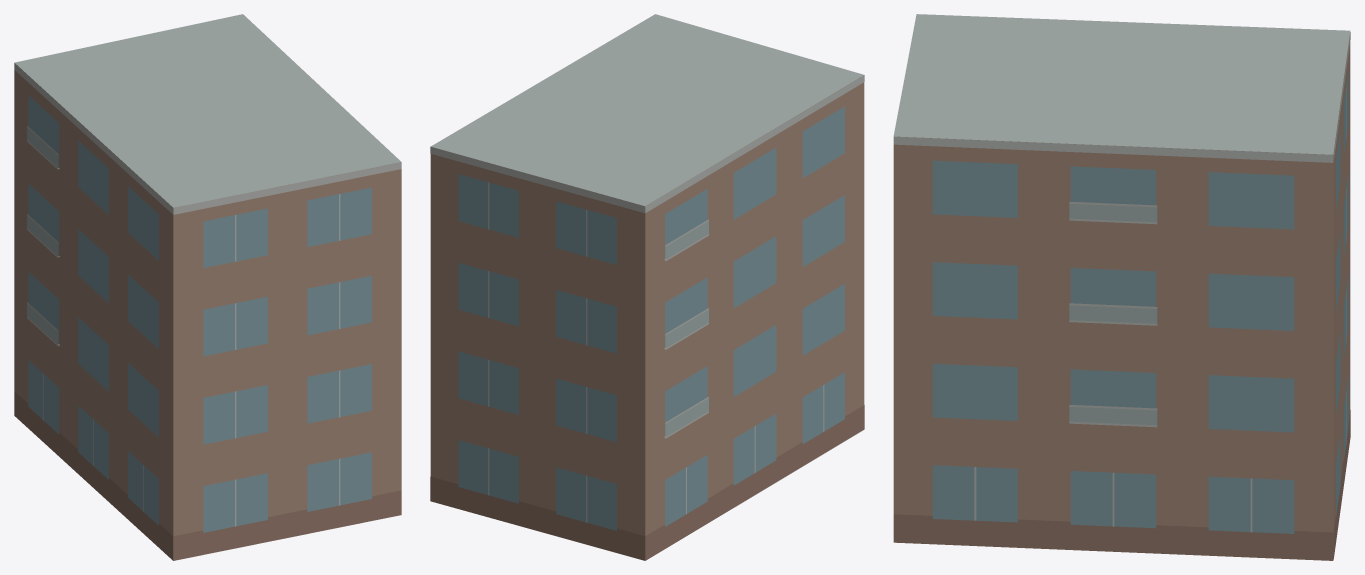
Rendered from survey-upis-32805550.glb.
The picture shows the model from 3 angles, left to right: view 1: azimuth 30°, elevation 25°; view 2: azimuth 150°, elevation 25°; view 3: azimuth 270°, elevation 25°; orthographic projection. The views are drawn at different scales.
Parts seen in each view (by area): view 1: survey-upis-32805550.tmp; view 2: survey-upis-32805550.tmp; view 3: survey-upis-32805550.tmp.
Part boxes in pixels (box(x1,y1,x2,y2)): survey-upis-32805550.tmp: box(14, 14, 401, 560); survey-upis-32805550.tmp: box(430, 14, 864, 560); survey-upis-32805550.tmp: box(893, 14, 1350, 560).
Size of the model in its own units: 9.08 by 12.2 by 12.45.
